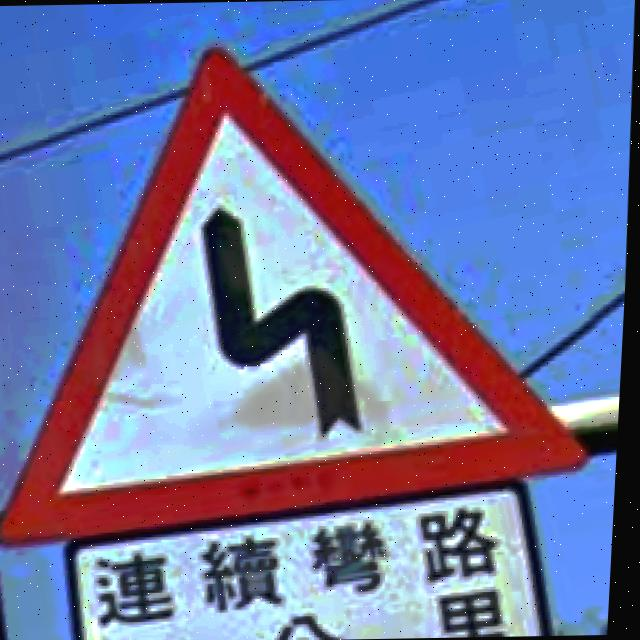doublebendleft: (0, 47, 597, 542)
